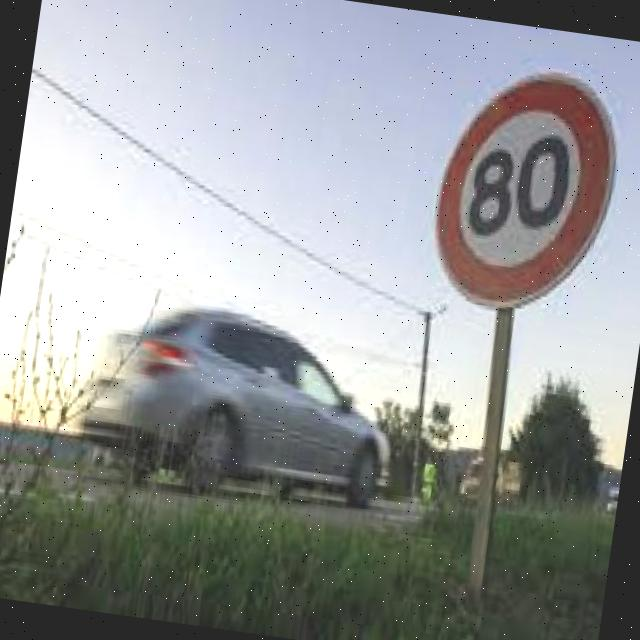Ograniczenie predkosci do 80: (425, 62, 629, 308)
